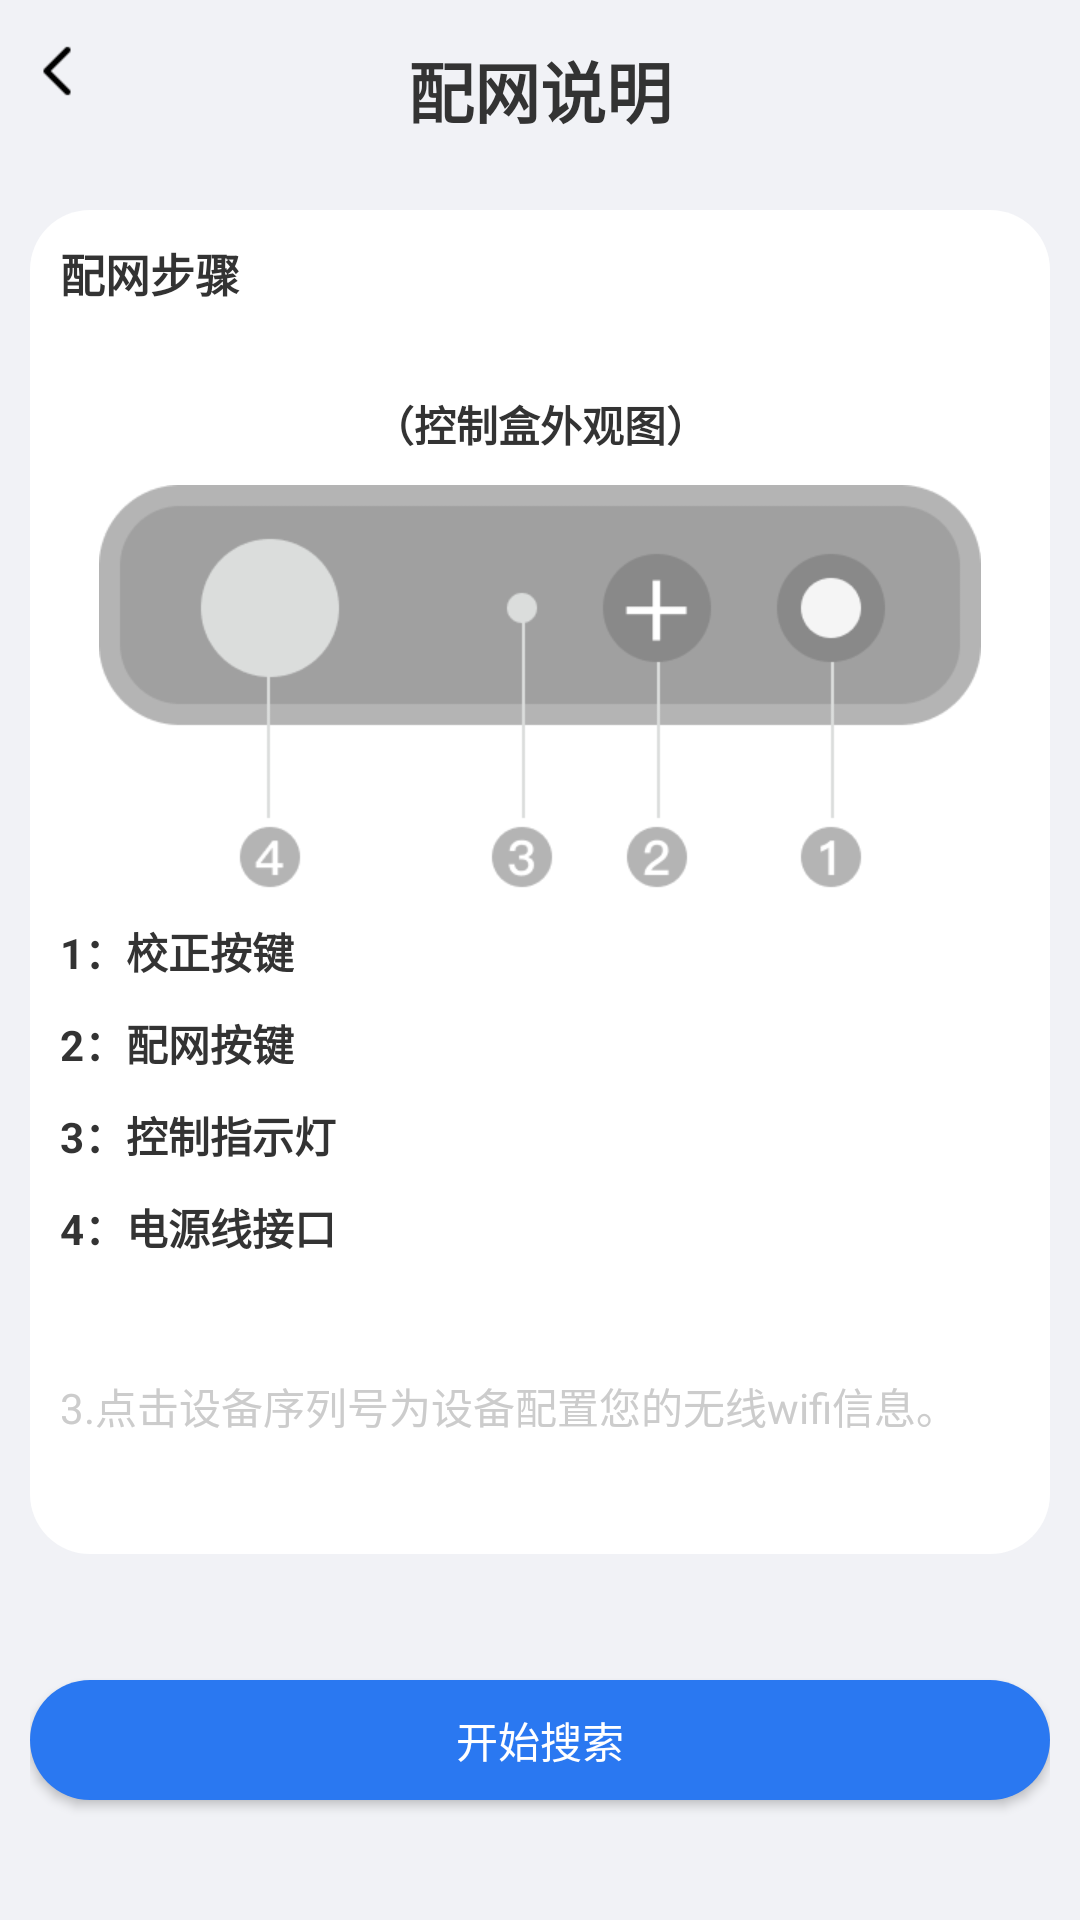

Named icons in this screenshot (1080px x 1920px) and their centers, [x,y]:
back: [57,71]
